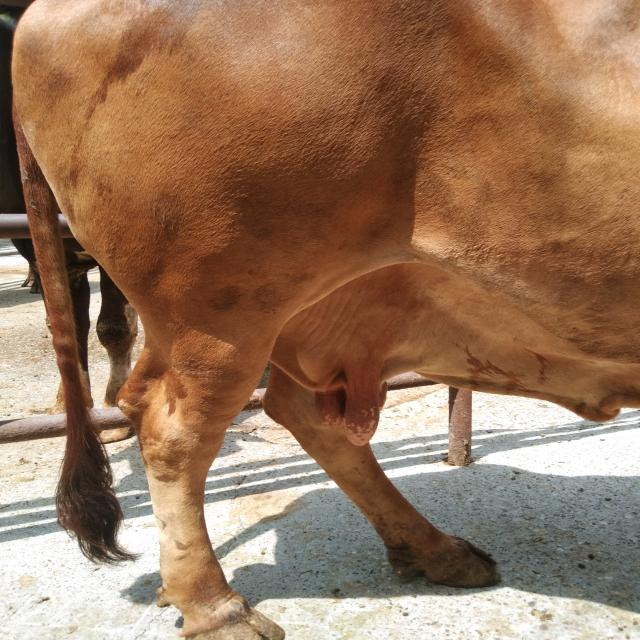Hoof: (178, 594, 286, 639), (422, 535, 501, 589)
